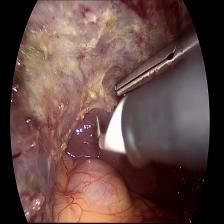Grasper: (114, 32, 183, 98)
Hook: (92, 95, 129, 168)
